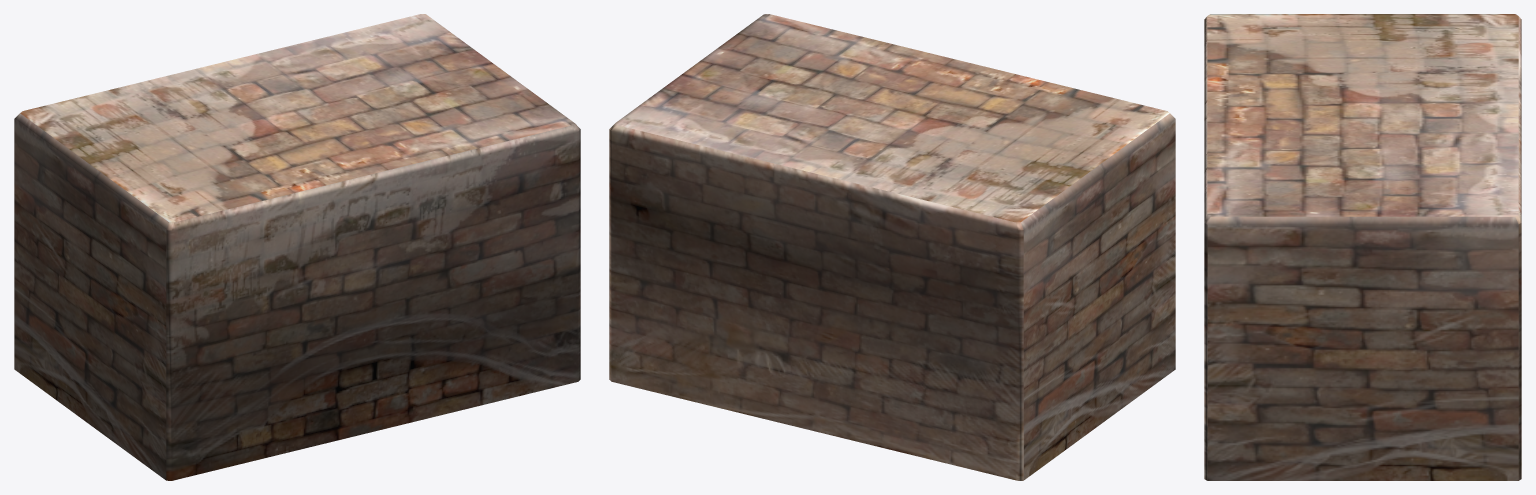
File: steine_01.fbx
3 renders of one model, left to right at view 1: azimuth 30°, elevation 25°; view 2: azimuth 150°, elevation 25°; view 3: azimuth 270°, elevation 25°, orthographic. The views are drawn at different scales.
Visible parts, largest first — view 1: Mesh; view 2: Mesh; view 3: Mesh.
Part boxes in pixels (<box>): Mesh: <box>14,14,580,480</box>; Mesh: <box>609,14,1175,480</box>; Mesh: <box>1204,14,1521,480</box>.
Size of the model in its own units: 128 by 75.9 by 83.24.
